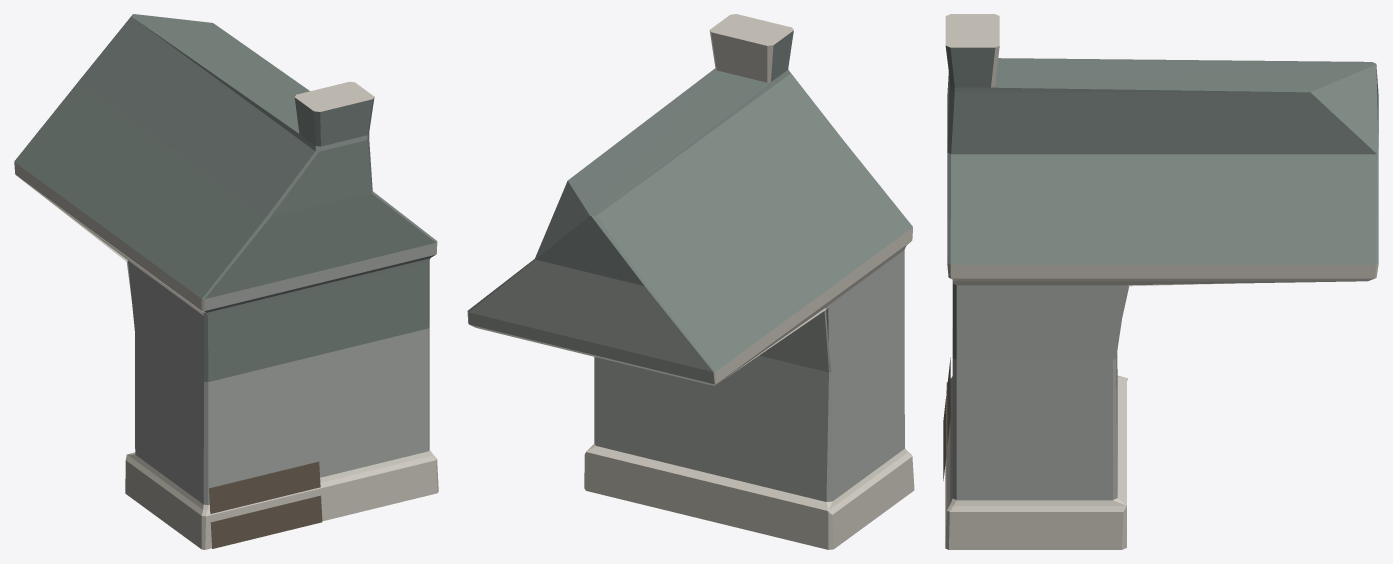
The model's file is loin.glb.
The picture shows the model from 3 angles, left to right: view 1: azimuth 30°, elevation 25°; view 2: azimuth 150°, elevation 25°; view 3: azimuth 270°, elevation 25°; orthographic projection. The views are drawn at different scales.
Parts seen in each view (by area): view 1: loin; view 2: loin; view 3: loin.
Part boxes in pixels (box(x1,y1,x2,y2)): loin: box(14, 14, 438, 549); loin: box(467, 14, 914, 549); loin: box(943, 14, 1378, 549).
Size of the model in its own units: 0.5938 by 0.9801 by 0.8283.
